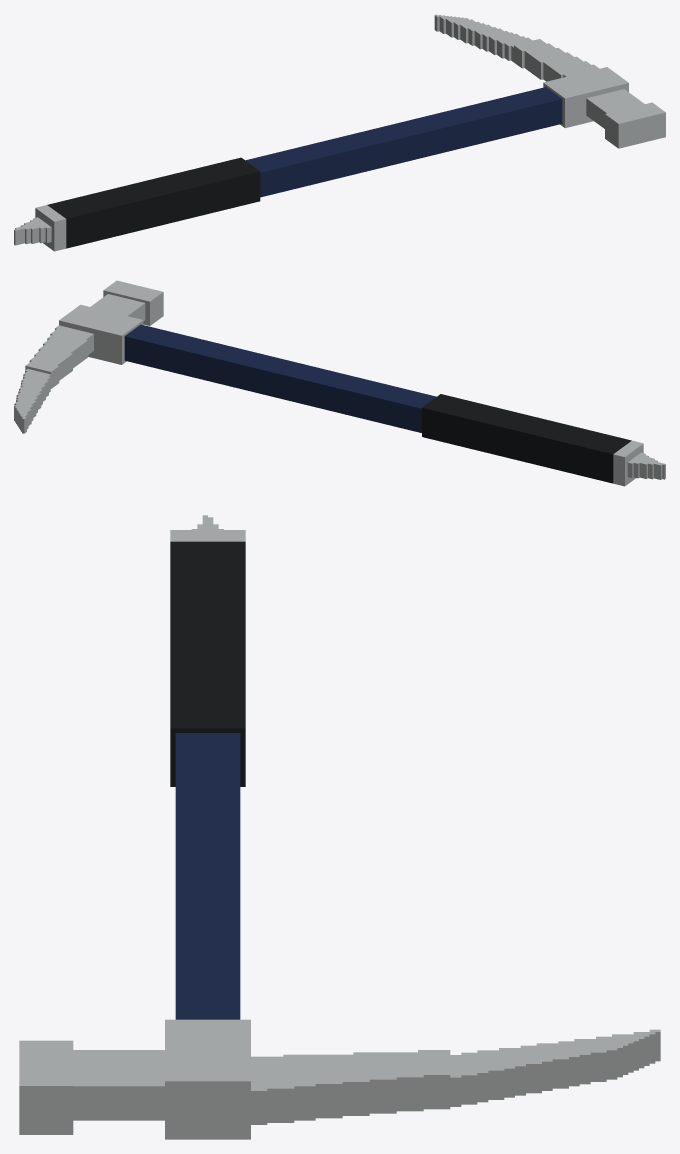
The model's file is iceaxe.glb.
The picture shows the model from 3 angles, top to bottom: view 1: azimuth 30°, elevation 25°; view 2: azimuth 150°, elevation 25°; view 3: azimuth 270°, elevation 25°; orthographic projection. The views are drawn at different scales.
Visible parts, largest first — view 1: iceaxe:compound; view 2: iceaxe:compound; view 3: iceaxe:compound.
Boxes of the visible parts, left/top/right/bottom form: iceaxe:compound: left=14, top=14, right=665, bottom=251; iceaxe:compound: left=14, top=280, right=665, bottom=486; iceaxe:compound: left=19, top=515, right=660, bottom=1139.
Bounding box in the file's own units: 0.51 × 0.024 × 0.238.
